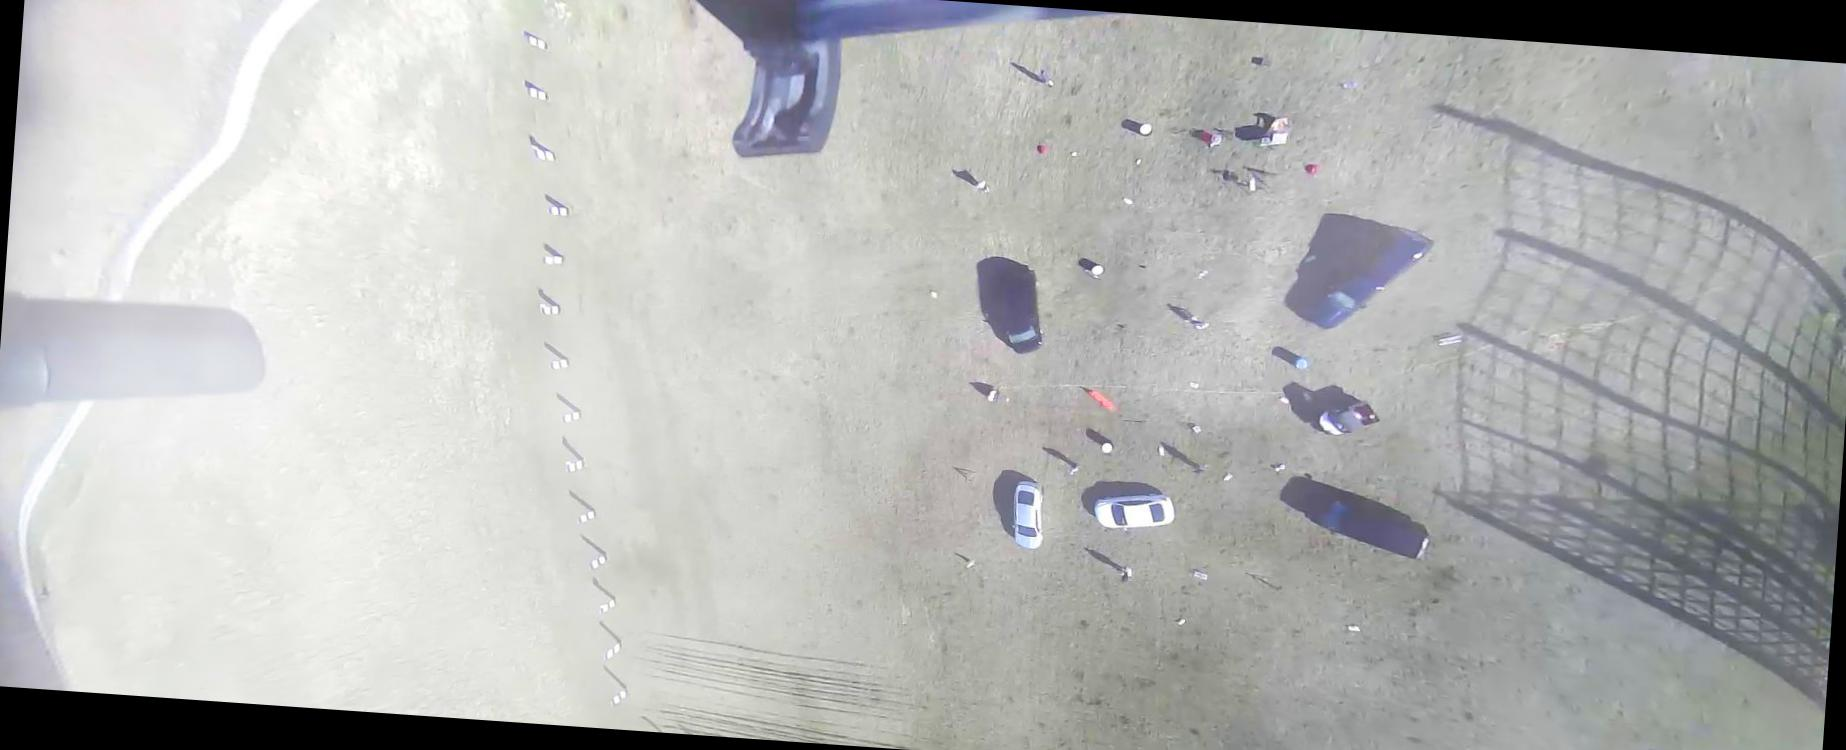vehicle: (1310, 223, 1434, 336), (1301, 489, 1434, 560), (989, 261, 1049, 356), (1093, 489, 1177, 535), (1315, 397, 1381, 439), (1010, 479, 1048, 550)
